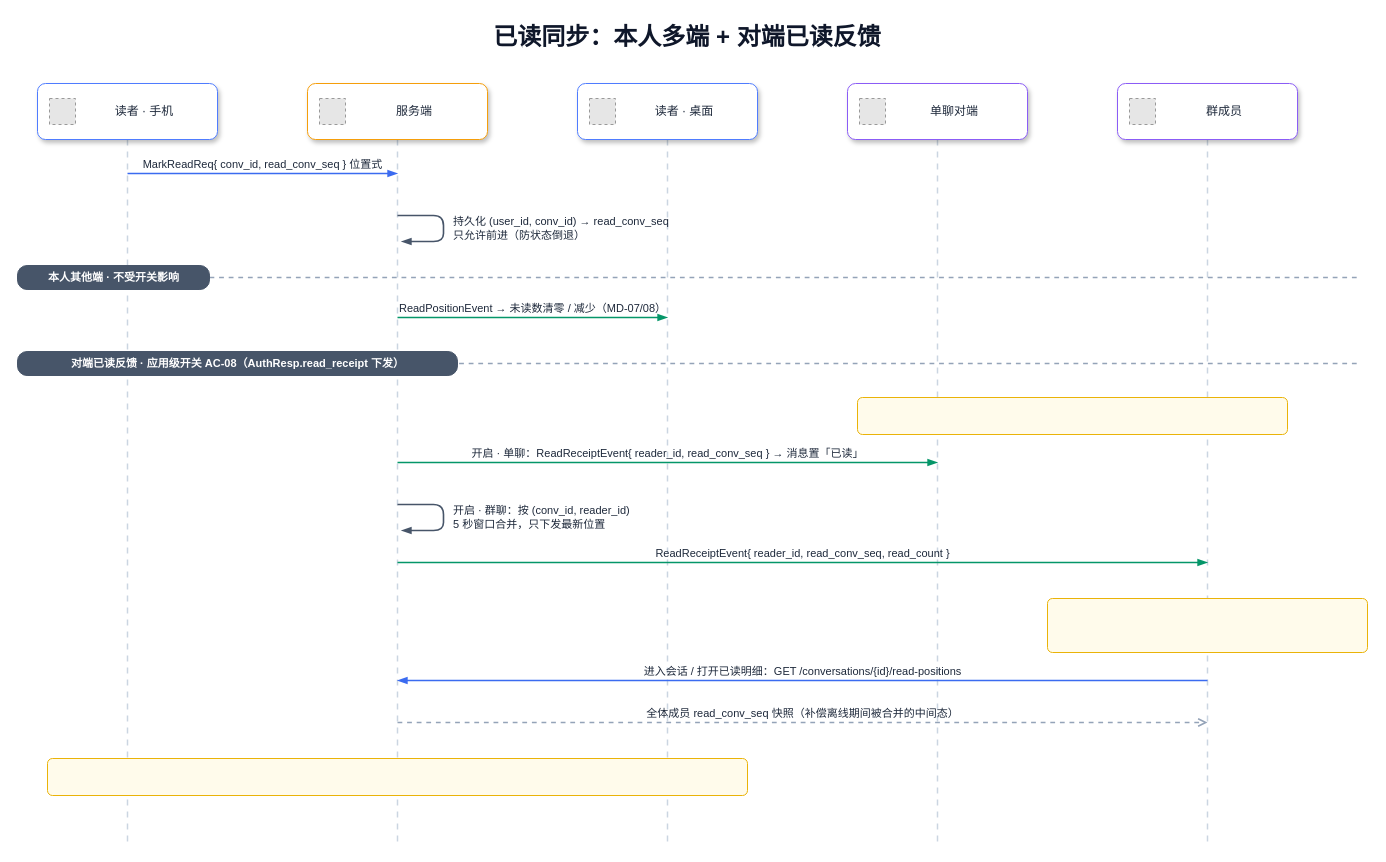
The diagram is 1386 pixels wide and 862 high, and some of its shapes have lost their labels. Grey dashed boxes stand in for pictures. The shapes that lost their labels are listed below. From the top down, each one's centre as x and y in pixels, then its label:
the point at 1072,415: 关闭：不生成 ReadReceiptEvent / ReadReceiptPush，客户端不展示任何已读状态
the point at 1207,625: 维护「成员 → 已读位置」 已读成员 = read_conv_seq ≥ 消息 conv_seq
the point at 397,777: 未读数 = max(conv_seq) − read_conv_seq（排除本人消息），服务端为权威值
